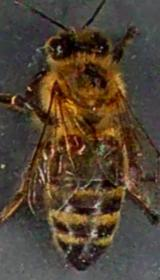varroa_mite: (58, 127, 88, 164)
